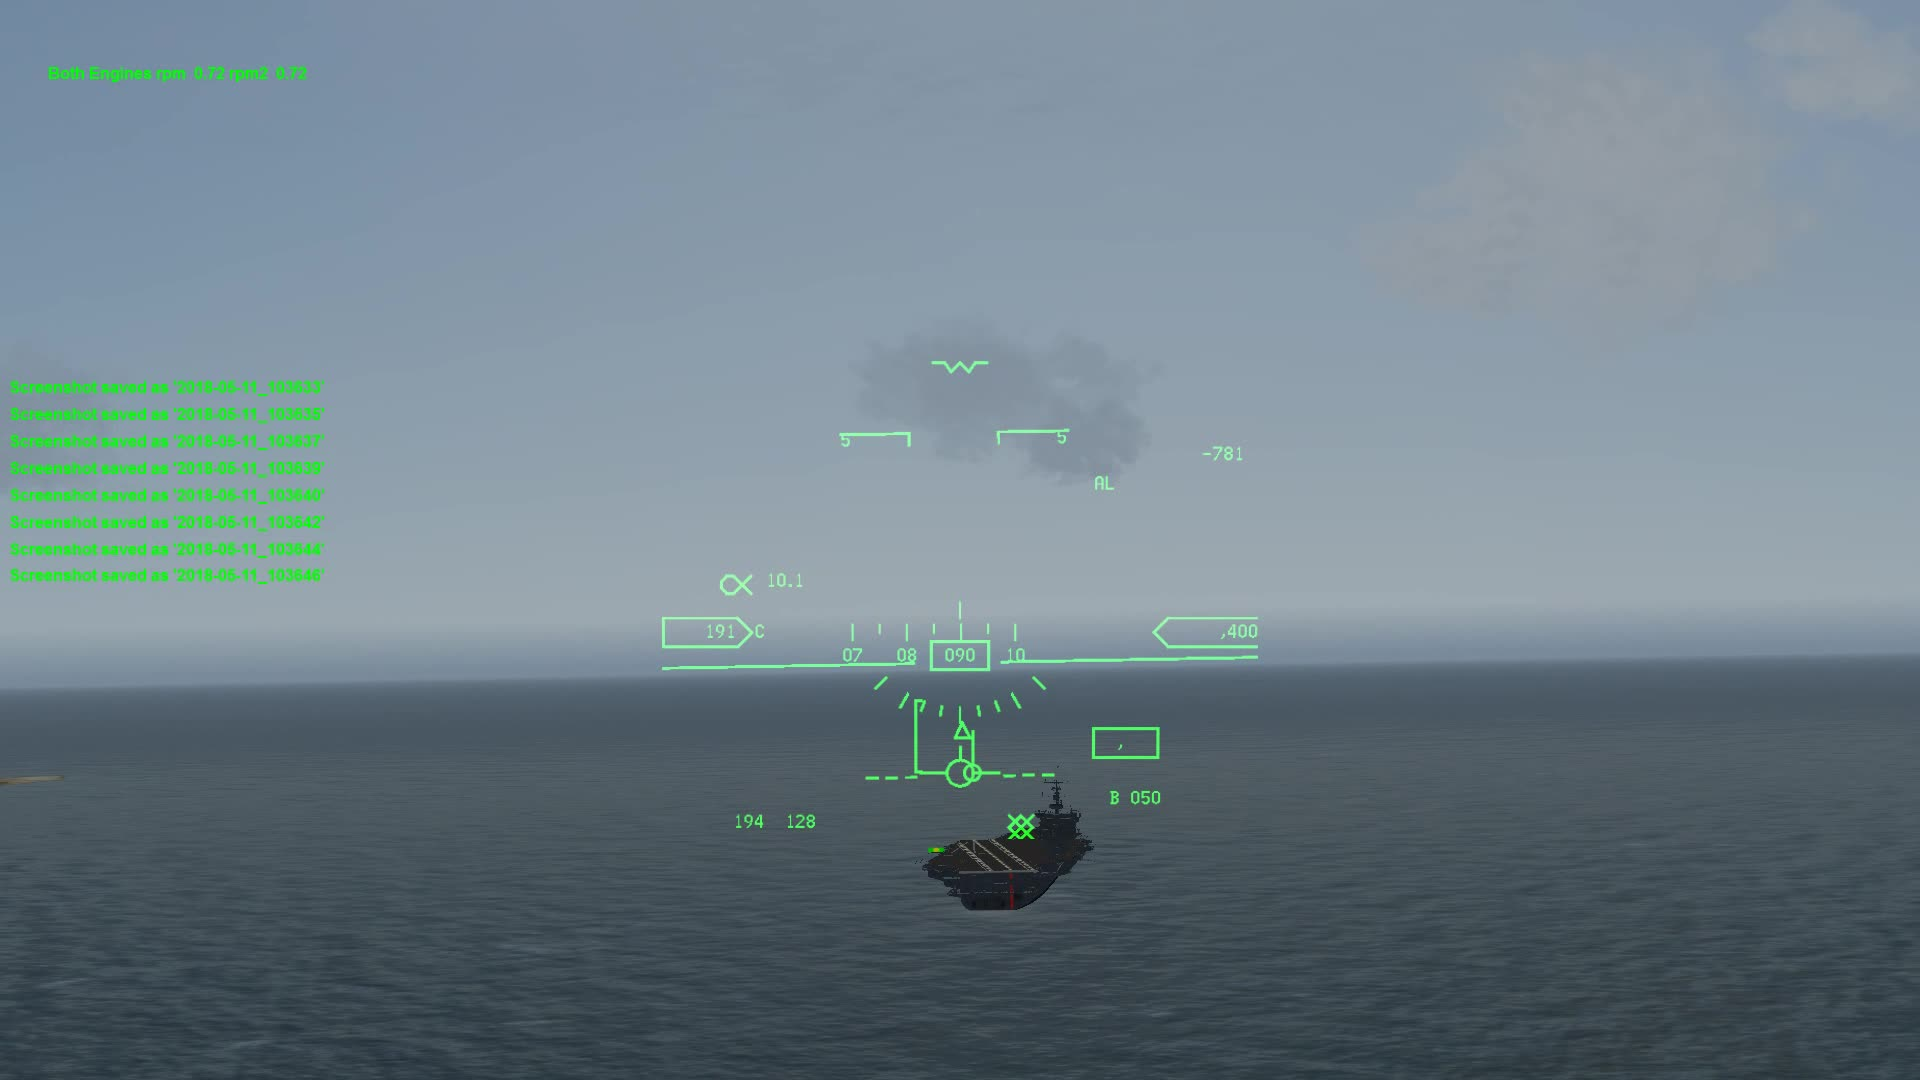speed vector: (940, 753, 986, 794)
